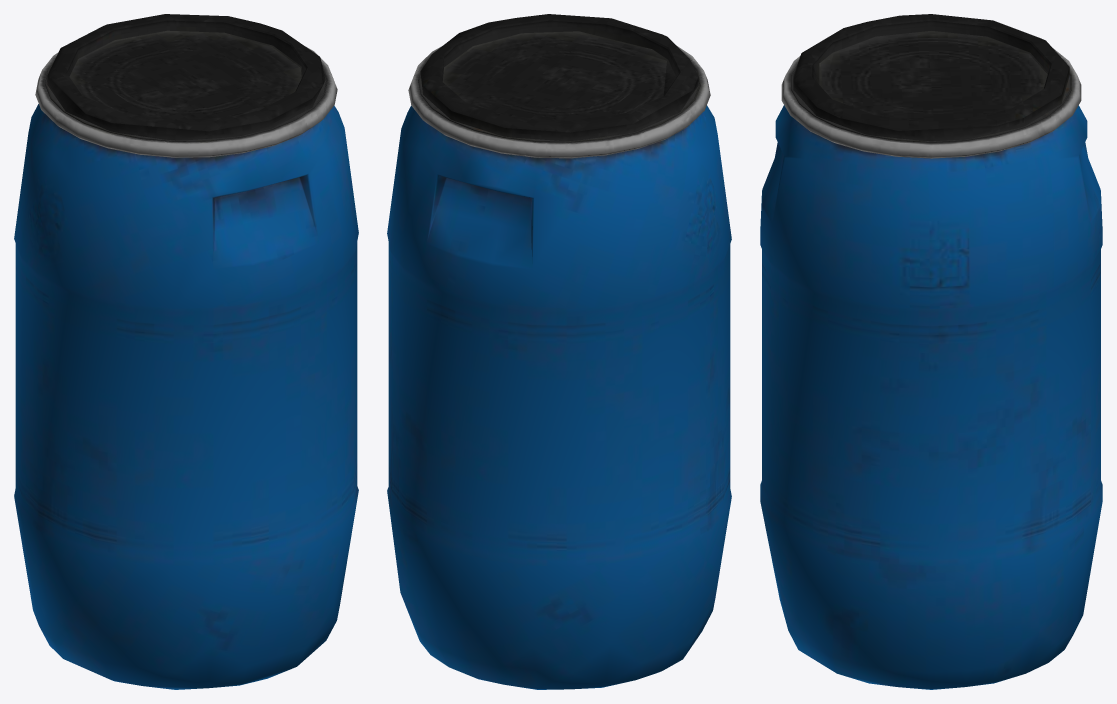
The model's file is Barrel_02.slim.glb.
3 views of the same model, side by side, from view 1: azimuth 30°, elevation 25°; view 2: azimuth 150°, elevation 25°; view 3: azimuth 270°, elevation 25° (orthographic).
Bounding box in the file's own units: 0.4882 × 0.88 × 0.4846.
Materials: 1 (1 with a texture image).
